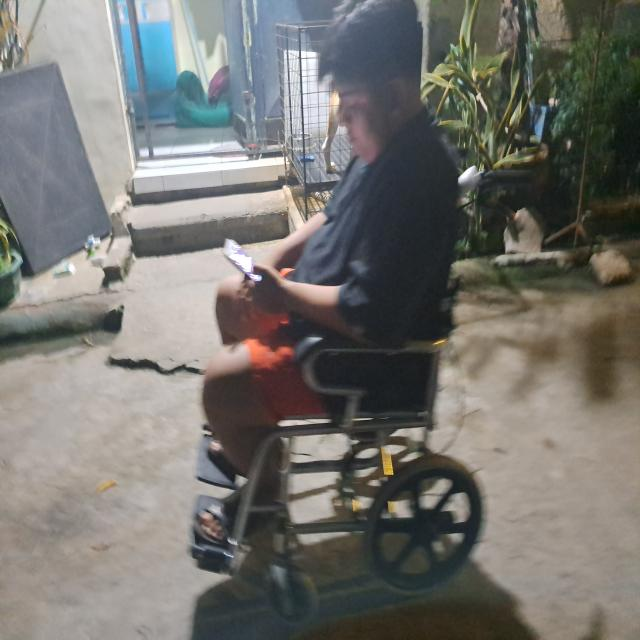wheelchairs: (176, 158, 546, 611)
